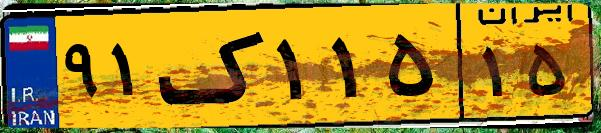1: (270, 28, 330, 110), (330, 28, 385, 110), (475, 38, 525, 113), (110, 28, 158, 98)
5: (385, 28, 445, 110), (525, 38, 570, 115)
9: (57, 26, 110, 100)
ک: (158, 12, 270, 120)
